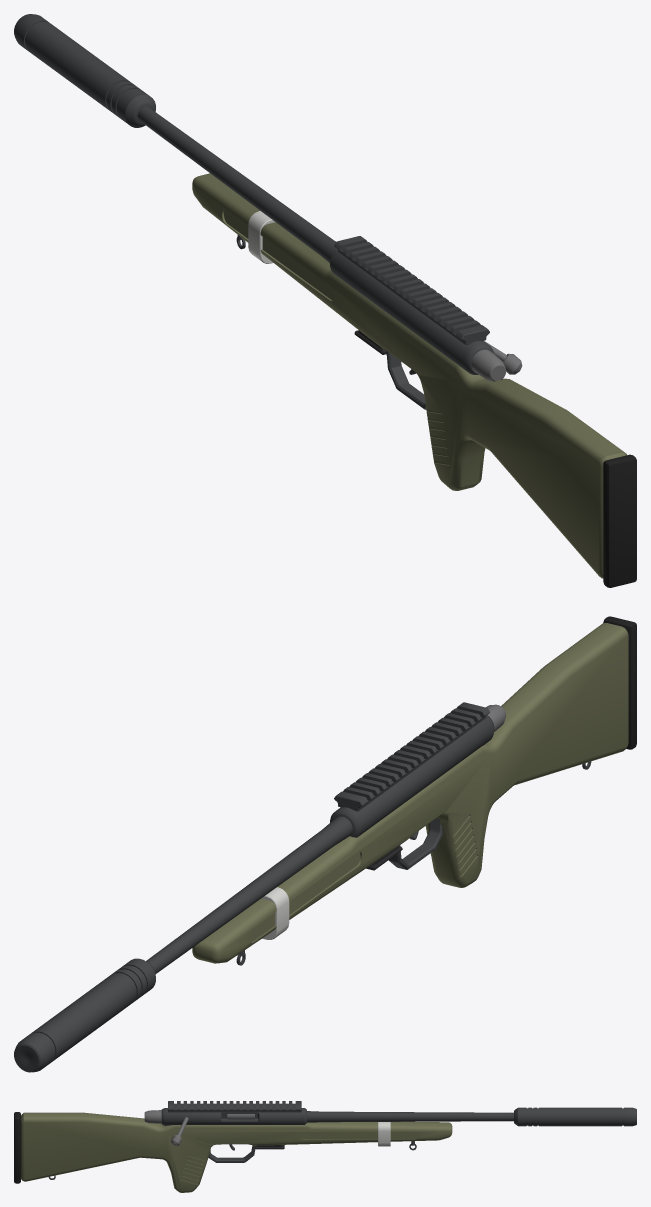
Rendered from VSR.glb.
The picture shows the model from 3 angles, top to bottom: view 1: azimuth 30°, elevation 25°; view 2: azimuth 150°, elevation 25°; view 3: azimuth 270°, elevation 25°; orthographic projection. The views are drawn at different scales.
Visible parts, largest first — view 1: Body, Metal, Furniture, Bolt; view 2: Body, Metal, Furniture, Tape; view 3: Body, Metal, Bolt, Furniture, Tape.
Boxes of the visible parts, x1,y1,x2,y2 form: Body: [192, 173, 626, 578]; Metal: [14, 14, 493, 409]; Furniture: [603, 454, 636, 587]; Bolt: [471, 341, 522, 381]; Body: [192, 623, 628, 963]; Metal: [14, 702, 591, 1072]; Furniture: [603, 616, 636, 749]; Tape: [261, 887, 289, 939]; Body: [21, 1112, 452, 1192]; Metal: [48, 1101, 636, 1179]; Bolt: [144, 1110, 254, 1146]; Furniture: [14, 1112, 20, 1183]; Tape: [378, 1122, 390, 1146].
Size of the model in its own units: 0.3856 by 0.9022 by 5.87.
